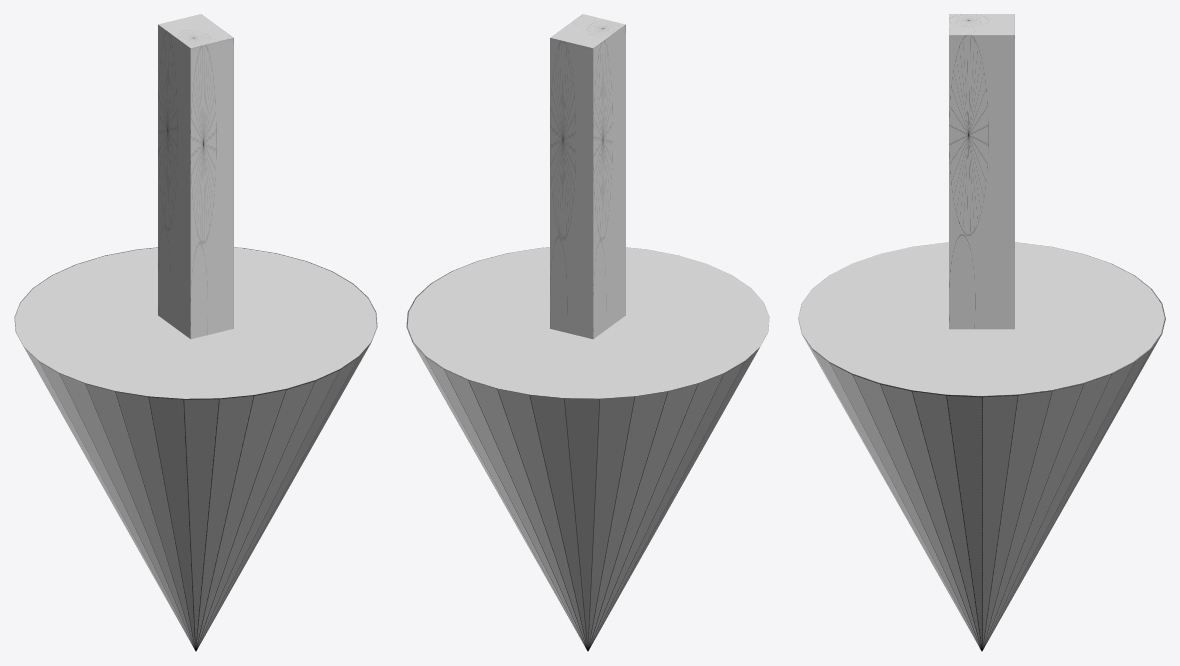
The model's file is selected.obj.
The picture shows the model from 3 angles, left to right: view 1: azimuth 30°, elevation 25°; view 2: azimuth 150°, elevation 25°; view 3: azimuth 270°, elevation 25°; orthographic projection.
Visible parts, largest first — view 1: Cone; view 2: Cone; view 3: Cone.
Boxes of the visible parts, left/top/right/bottom form: Cone: left=14, top=14, right=377, bottom=651; Cone: left=406, top=14, right=769, bottom=651; Cone: left=798, top=14, right=1165, bottom=651.
Bounding box in the file's own units: 2 × 3.76 × 2.
1 material, 1 textured.
